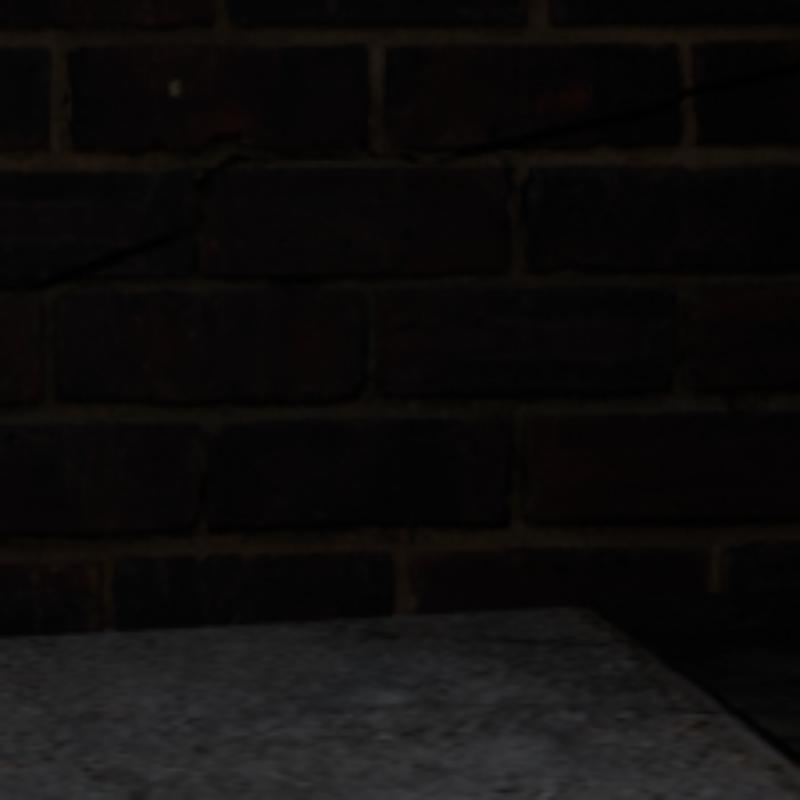crack: (0, 64, 796, 289)
